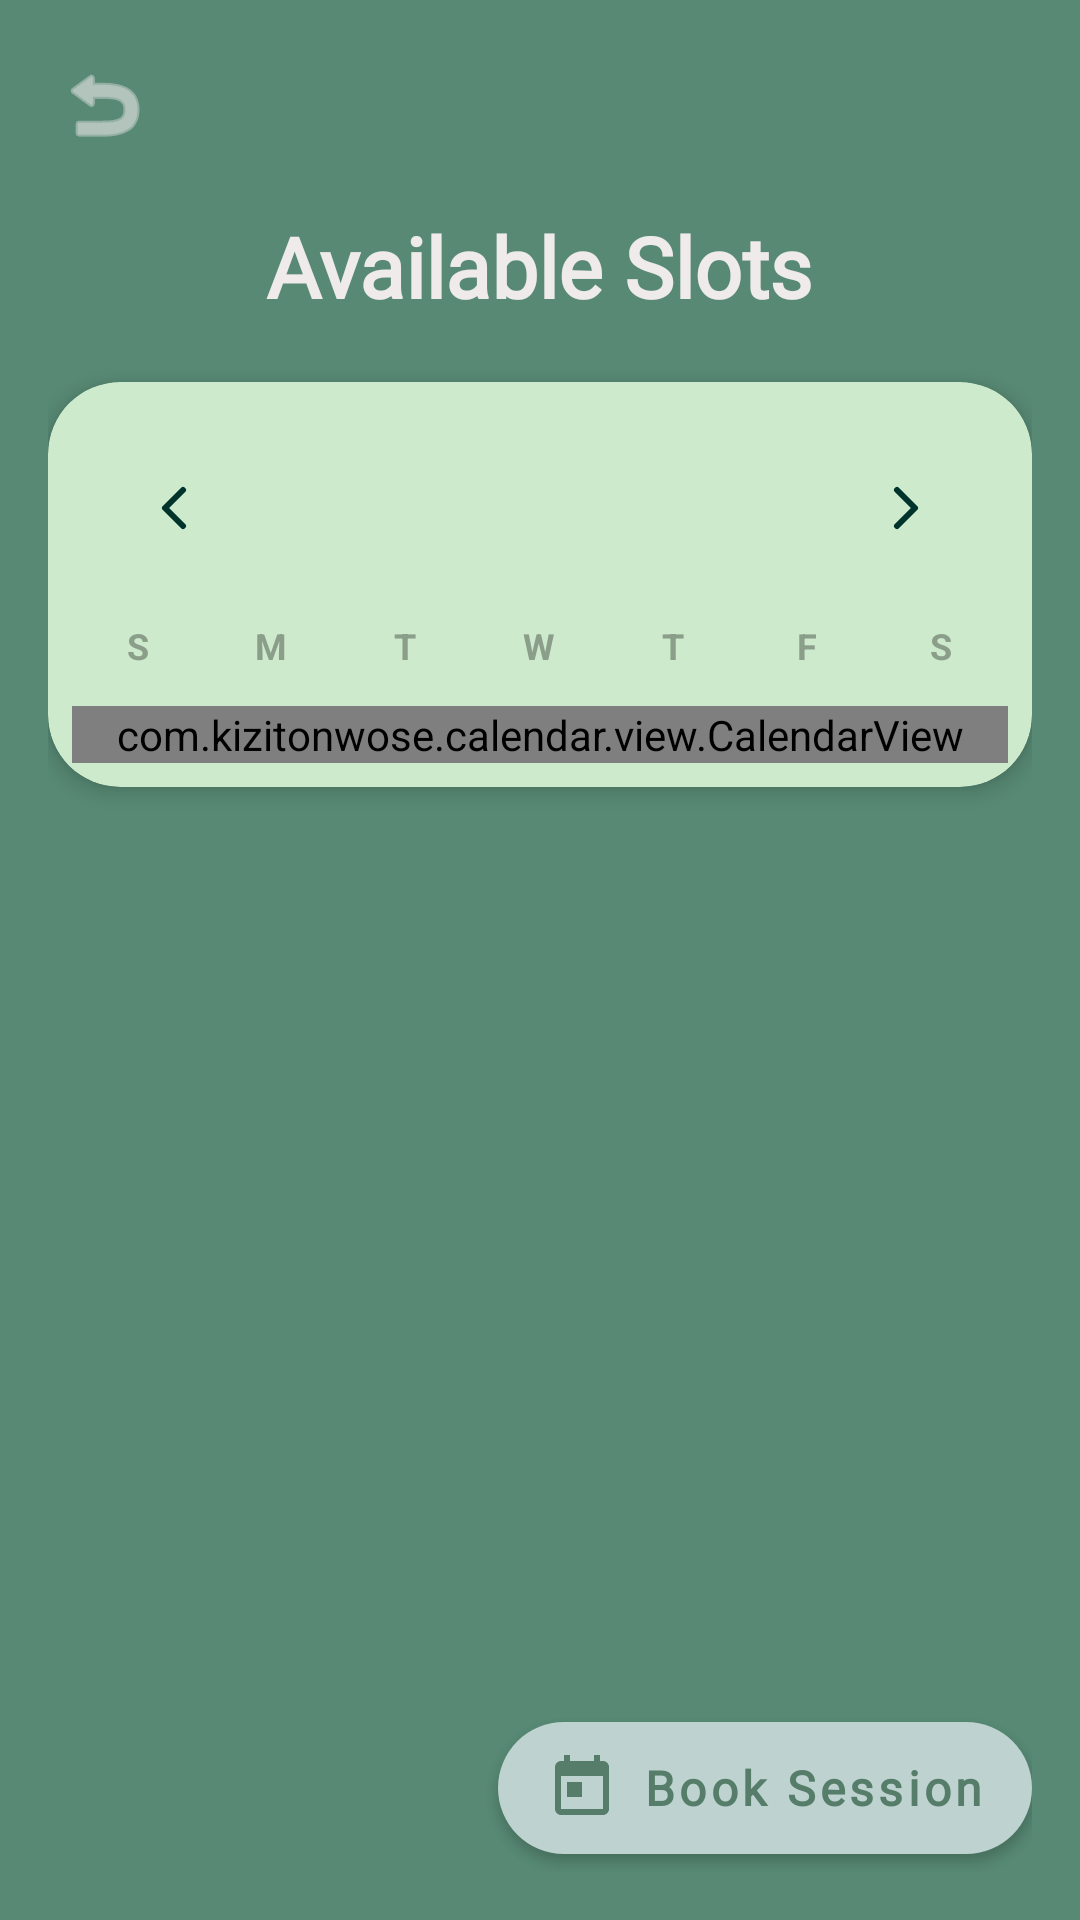

Screen size 1080 × 1920. Icon name, then its box in pixels as (x1, y1, x2, y2):
Next month: (894, 487, 918, 529)
Previous month: (162, 487, 186, 529)
revert: (71, 75, 140, 137)
